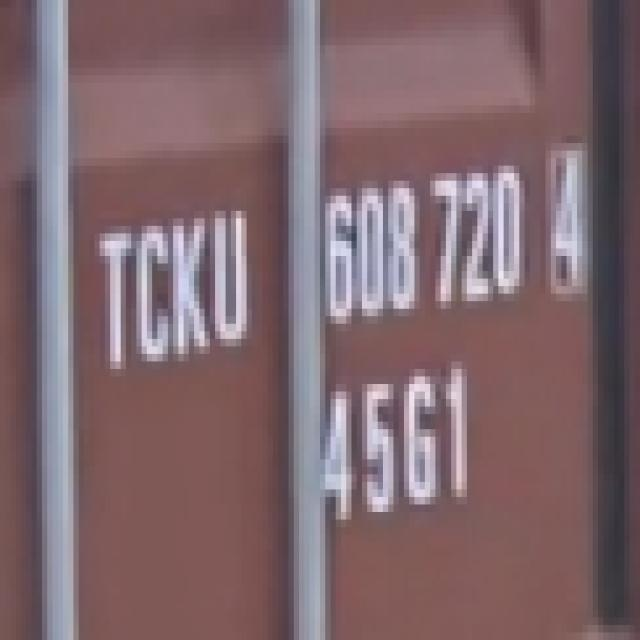dv: (540, 122, 604, 321)
owner: (86, 195, 262, 384)
serial: (313, 152, 530, 332)
size: (311, 354, 491, 541)
